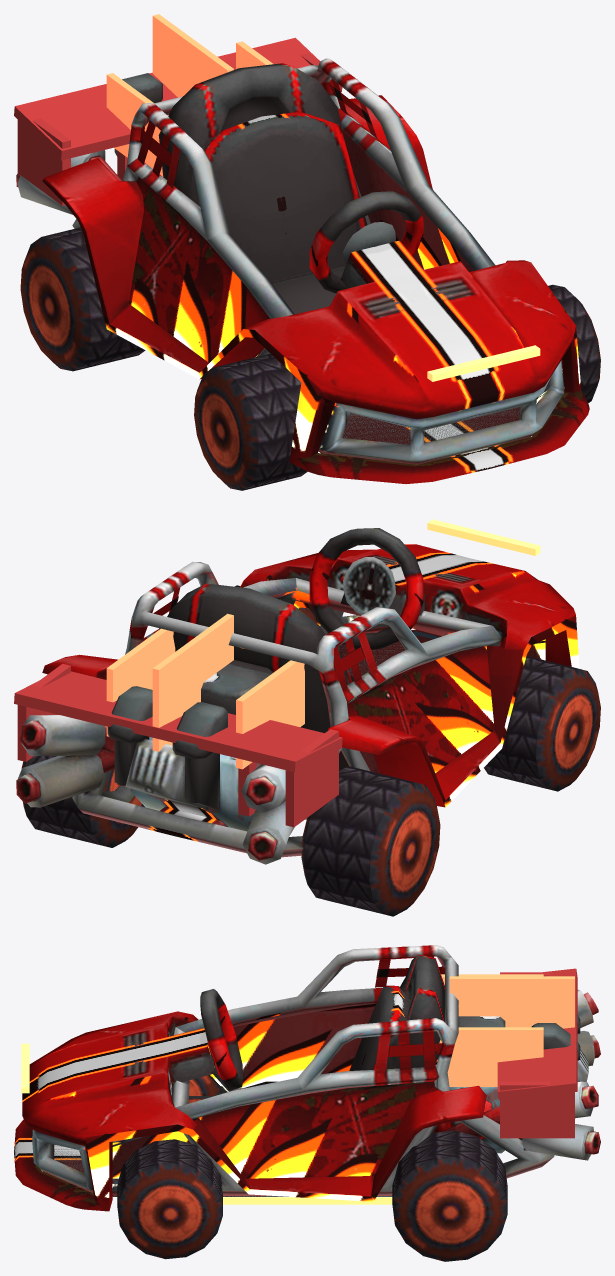
File: kart_1_Khang_Blaze_S-Valkyrie_Flame.glb
3 views of the same model, one above another, from view 1: azimuth 30°, elevation 25°; view 2: azimuth 150°, elevation 25°; view 3: azimuth 270°, elevation 25° (orthographic). The views are drawn at different scales.
Visible parts, largest first — view 1: kartModel, tireTest (2), tireTest (1), Wing, ThemeExtras, tireTest (3), NeonStrips; view 2: kartModel, tireTest (1), Wing, ThemeExtras, tireTest (2), tireTest, NeonStrips; view 3: kartModel, tireTest, tireTest (3), ThemeExtras, Wing, NeonStrips, tireTest (2).
Boxes of the visible parts, bbox=[...] form: kartModel: bbox=[16, 58, 589, 483]; tireTest (2): bbox=[194, 353, 307, 490]; tireTest (1): bbox=[20, 227, 145, 371]; Wing: bbox=[14, 37, 342, 205]; ThemeExtras: bbox=[106, 14, 273, 176]; tireTest (3): bbox=[548, 284, 600, 402]; NeonStrips: bbox=[427, 345, 540, 381]; kartModel: bbox=[16, 528, 579, 864]; tireTest (1): bbox=[301, 766, 440, 916]; Wing: bbox=[14, 664, 342, 827]; ThemeExtras: bbox=[106, 613, 304, 769]; tireTest (2): bbox=[484, 656, 600, 791]; tireTest: bbox=[21, 756, 144, 847]; NeonStrips: bbox=[427, 519, 540, 555]; kartModel: bbox=[14, 945, 600, 1211]; tireTest: bbox=[392, 1130, 507, 1261]; tireTest (3): bbox=[117, 1139, 222, 1259]; ThemeExtras: bbox=[439, 974, 574, 1086]; Wing: bbox=[497, 968, 577, 1138]; NeonStrips: bbox=[21, 1043, 392, 1204]; tireTest (2): bbox=[188, 1075, 219, 1103].
Bounding box in the file's own units: 0.0167 × 0.0118 × 0.0281.
5 materials, 2 textured.
